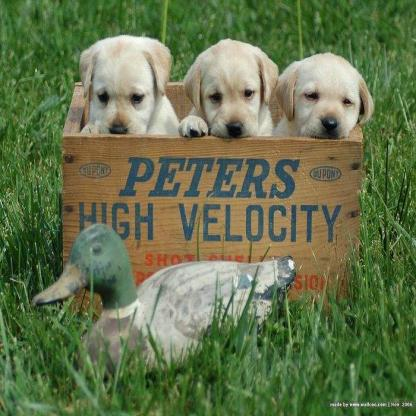dog: (77, 35, 183, 141), (179, 38, 278, 140), (275, 51, 374, 140)
